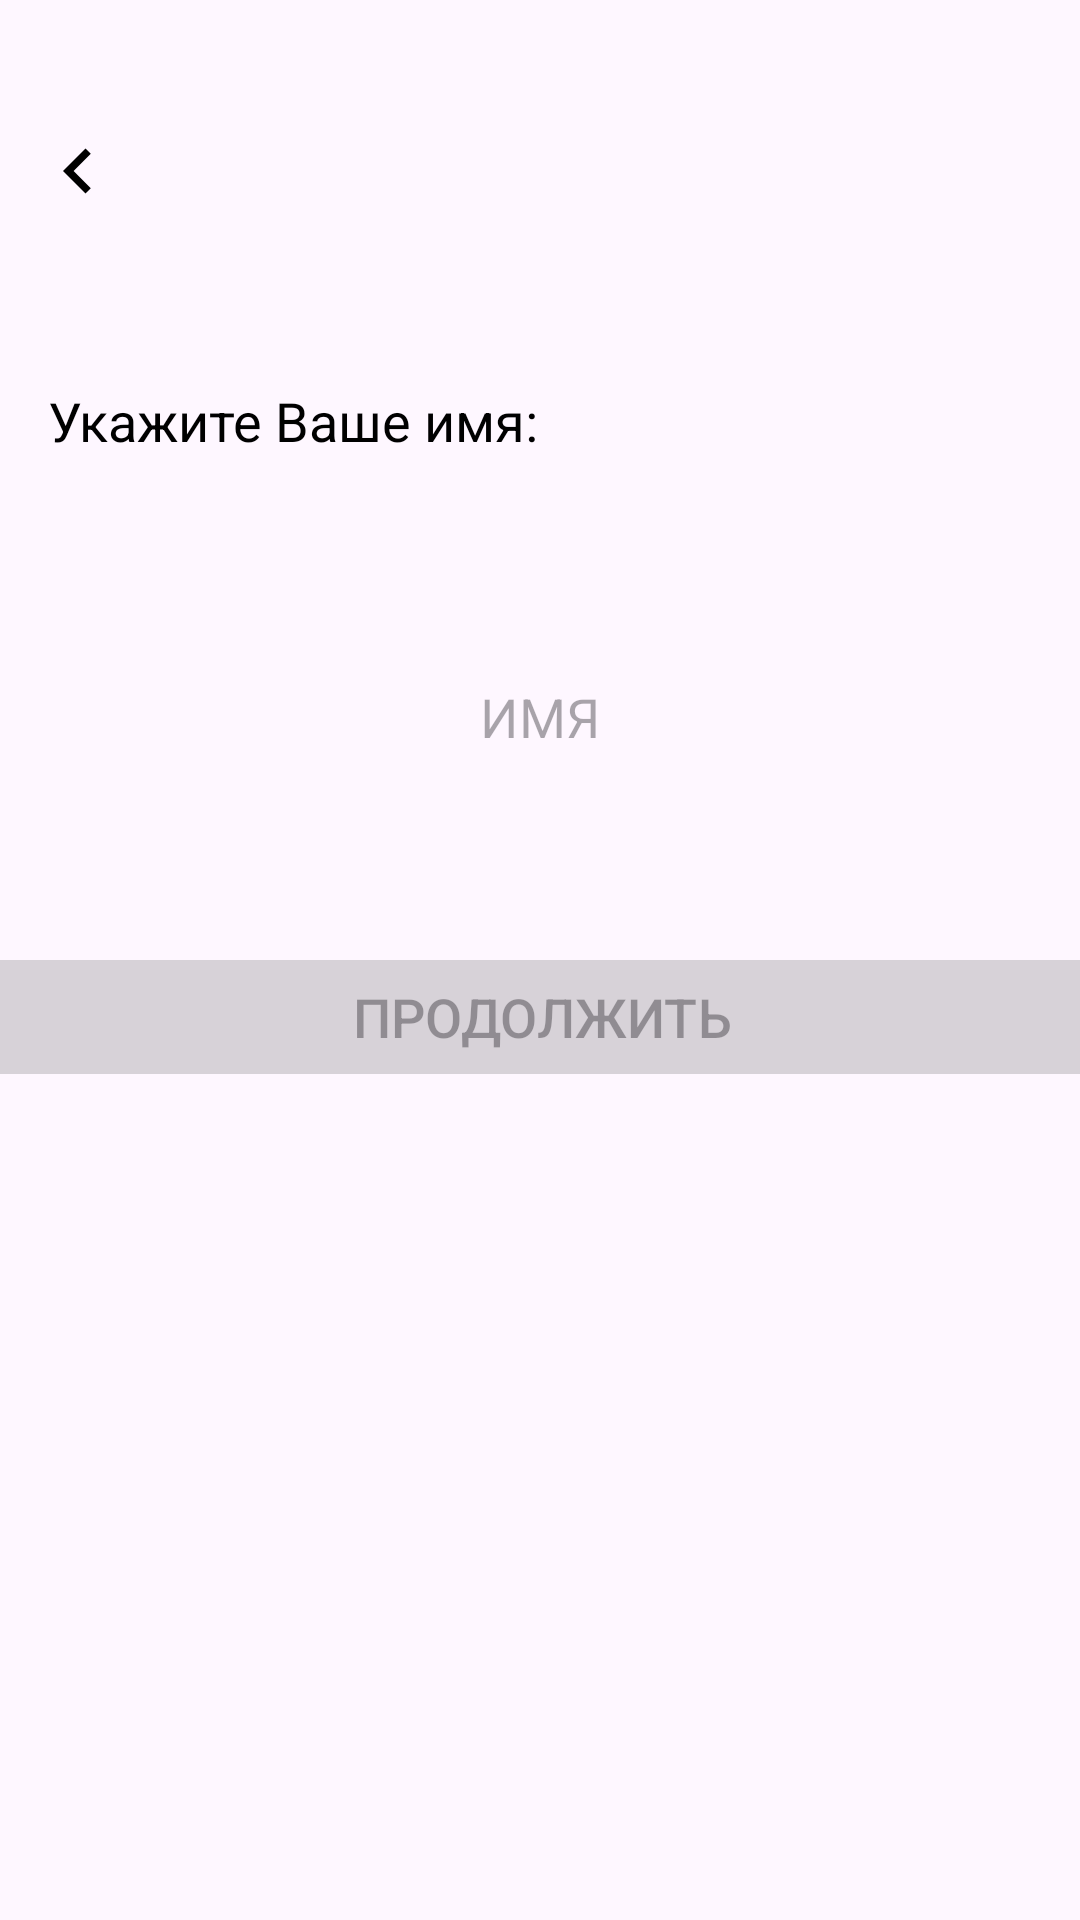

Screen size 1080w x 1920h. Icon name, then its box in pixels as (x1, y1, x2, y2):
Нажмите, если хотите вернуться на предыдущий экран: (63, 148, 91, 194)
